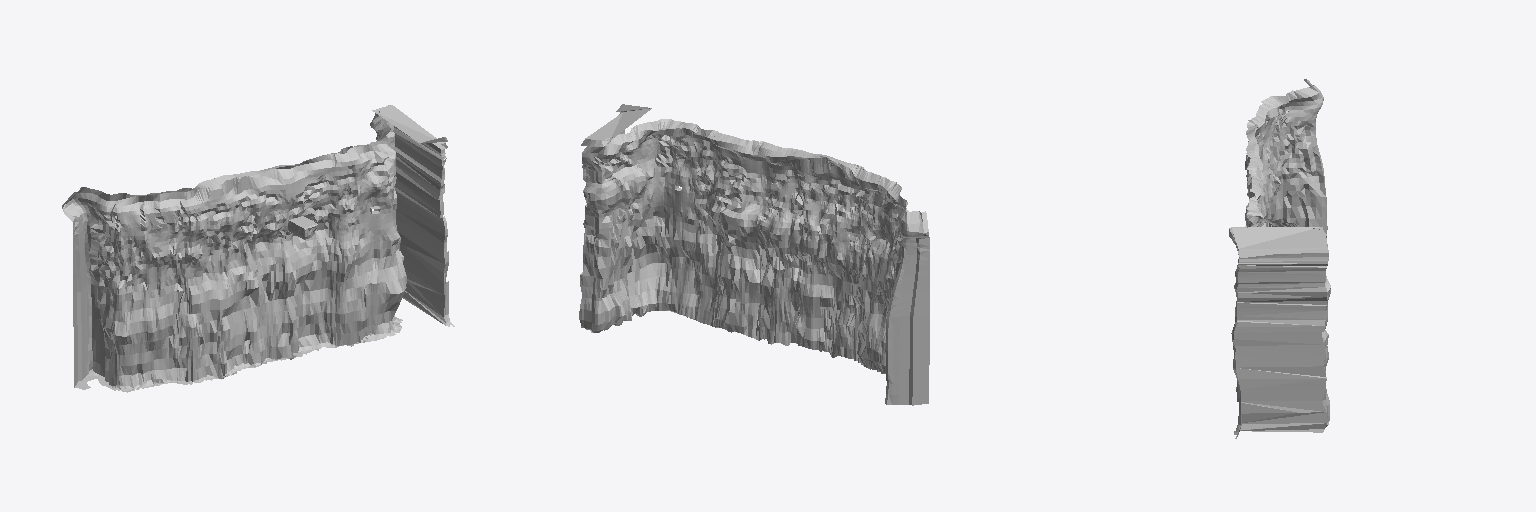
Rendered from backwall.obj.
The picture shows the model from 3 angles: view 1: azimuth 30°, elevation 25°; view 2: azimuth 150°, elevation 25°; view 3: azimuth 270°, elevation 25°; orthographic projection.
Parts seen in each view (by area): view 1: Mesh_Mesh_Mesh_Mesh_Mesh_eroded_plateau_hm.png_Mesh_Mesh_Me.001; view 2: Mesh_Mesh_Mesh_Mesh_Mesh_eroded_plateau_hm.png_Mesh_Mesh_Me.001; view 3: Mesh_Mesh_Mesh_Mesh_Mesh_eroded_plateau_hm.png_Mesh_Mesh_Me.001.
Boxes of the visible parts, x1=… form: Mesh_Mesh_Mesh_Mesh_Mesh_eroded_plateau_hm.png_Mesh_Mesh_Me.001: x1=62, y1=105, x2=454, y2=392; Mesh_Mesh_Mesh_Mesh_Mesh_eroded_plateau_hm.png_Mesh_Mesh_Me.001: x1=579, y1=104, x2=929, y2=405; Mesh_Mesh_Mesh_Mesh_Mesh_eroded_plateau_hm.png_Mesh_Mesh_Me.001: x1=1229, y1=79, x2=1330, y2=438.
Size of the model in its own units: 1267 by 688 by 317.